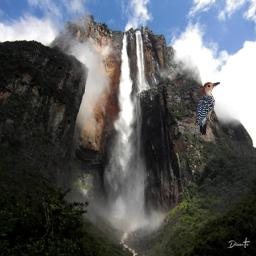Woodpecker: (195, 82, 220, 135)
